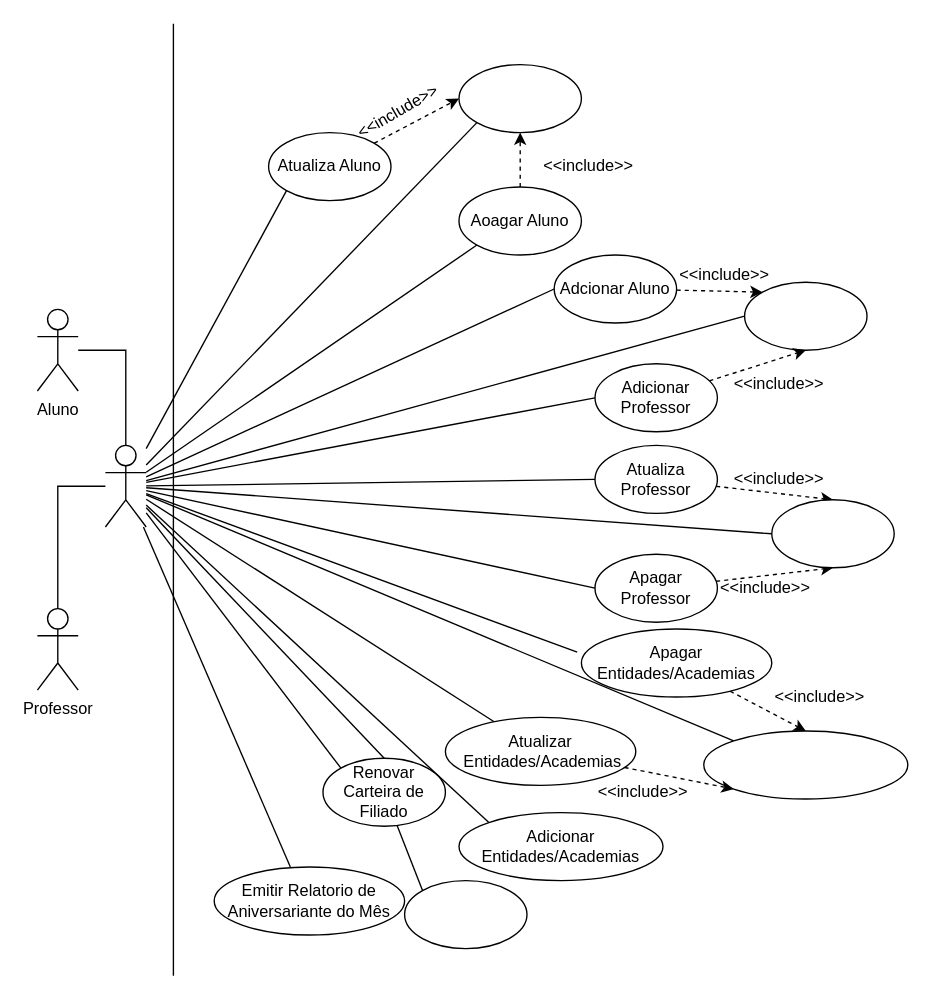
Some shapes in this 932 by 1001 pixel diagram are drawn without their labels. Here are the shapes that lost their labels. From the top down, the centre of each, then its label:
At point 519,98: "Busca Aluno".
At point 805,315: "Emitir Carteira de Filiado".
At point 125,485: "Secretaria".
At point 832,533: "Buscar Professor".
At point 805,764: "Buscar Entidades/Academias".
At point 465,914: "Emitir Relatorios".
